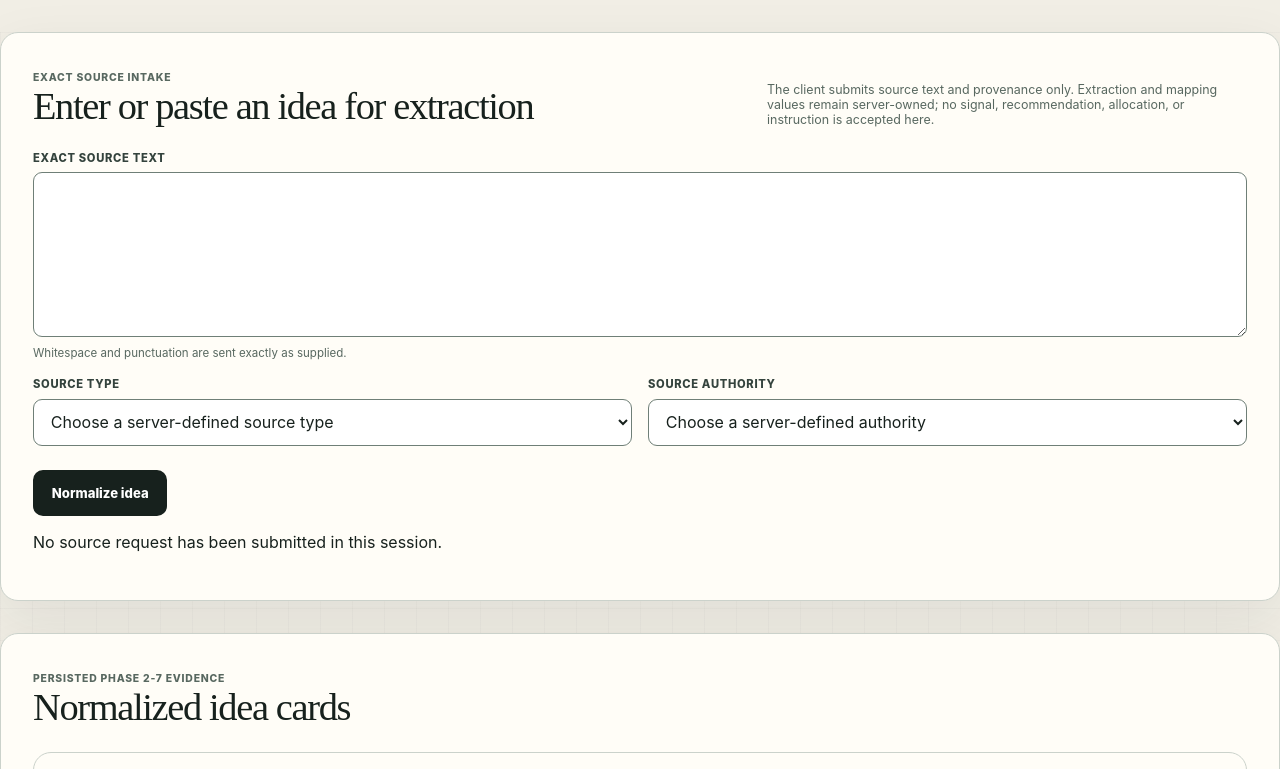
Scenario: Idea Intake workspace › fails closed when extraction creation returns another source-version identity
Type "Rank a synthetic universe using lagged evidence." into the text box labelled "Exact source text".
click(640, 255); type("Rank a synthetic universe using lagged evidence.")  # box [33,172,1247,337]
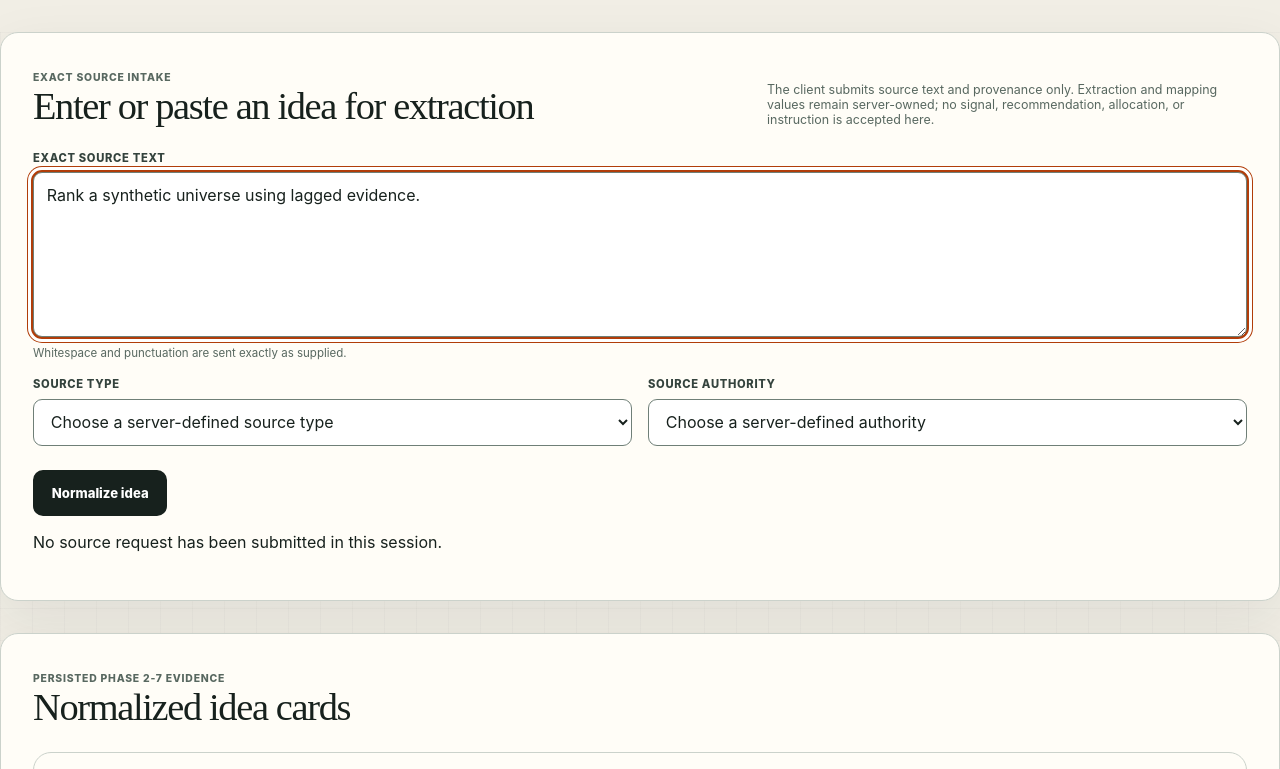
Select "manual notes" in the dropdown labelled "Source type" at (332, 422), box [33,398,632,446]
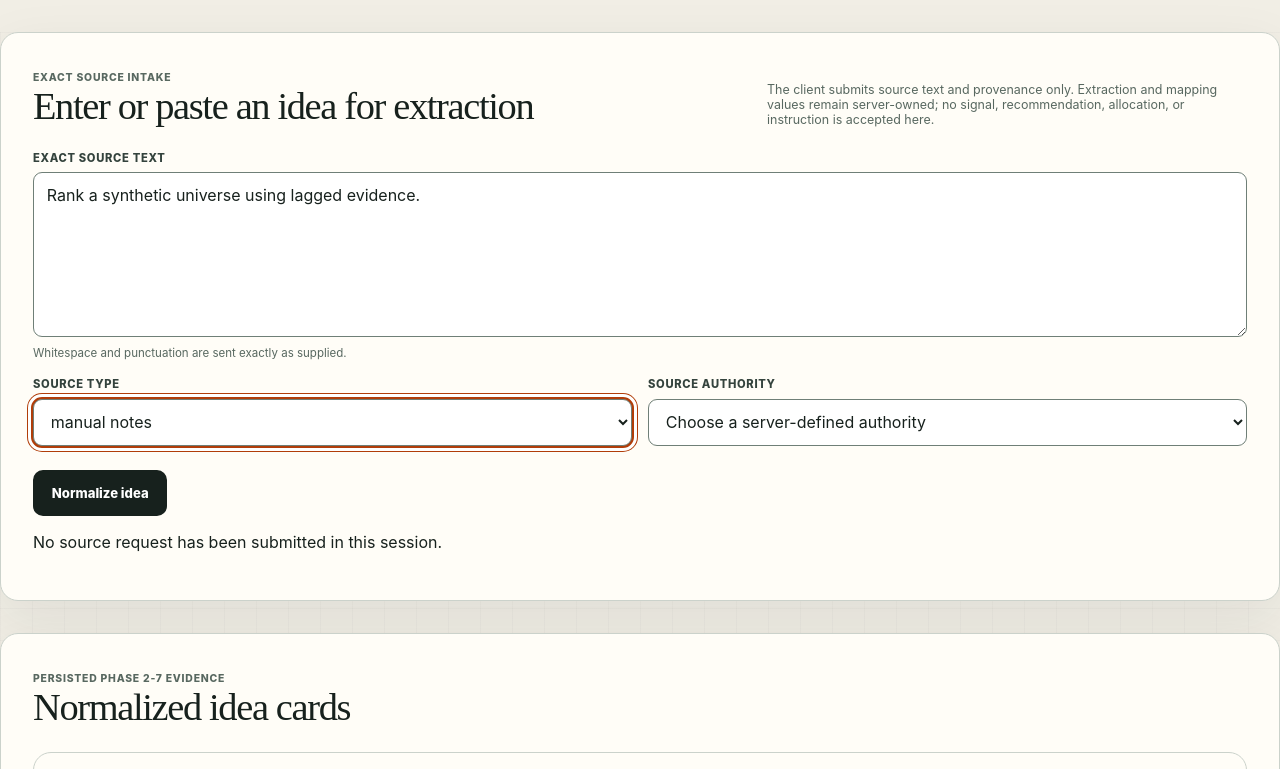
Select "unknown" in the dropdown labelled "Source authority" at (948, 422), box [648,398,1247,446]
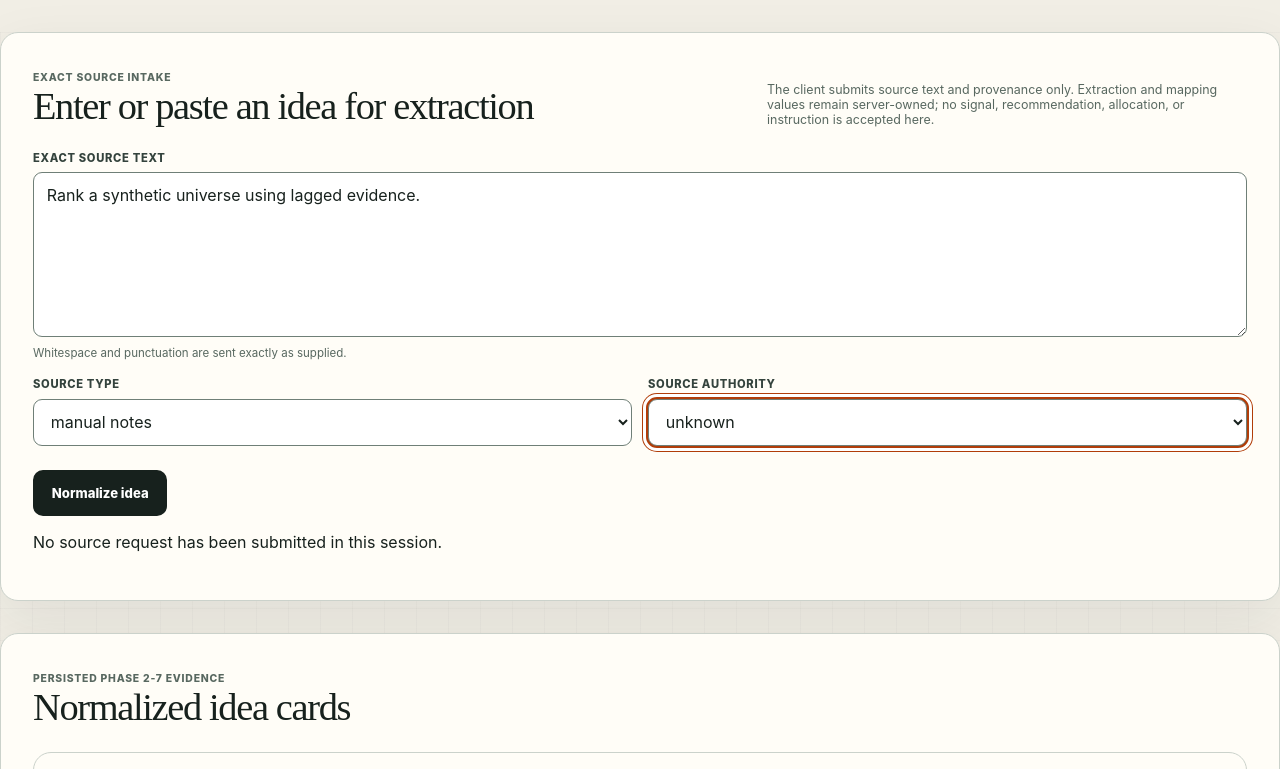
Click the button "Normalize idea".
click(100, 493)  # box [33,470,168,516]
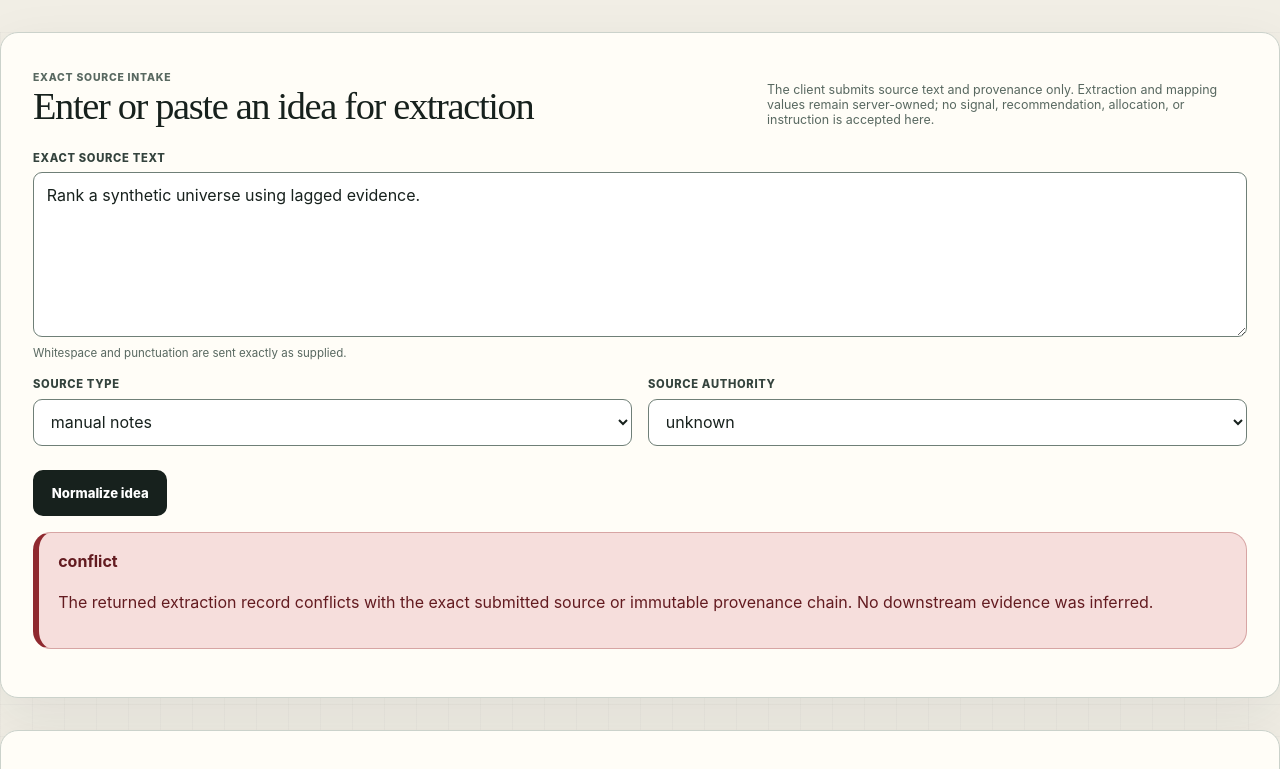
Check: the text "conflict" is shown, box [58,551,118,571]
Check: the text "returned extraction record conflicts" is shown, box [58,592,1154,612]
